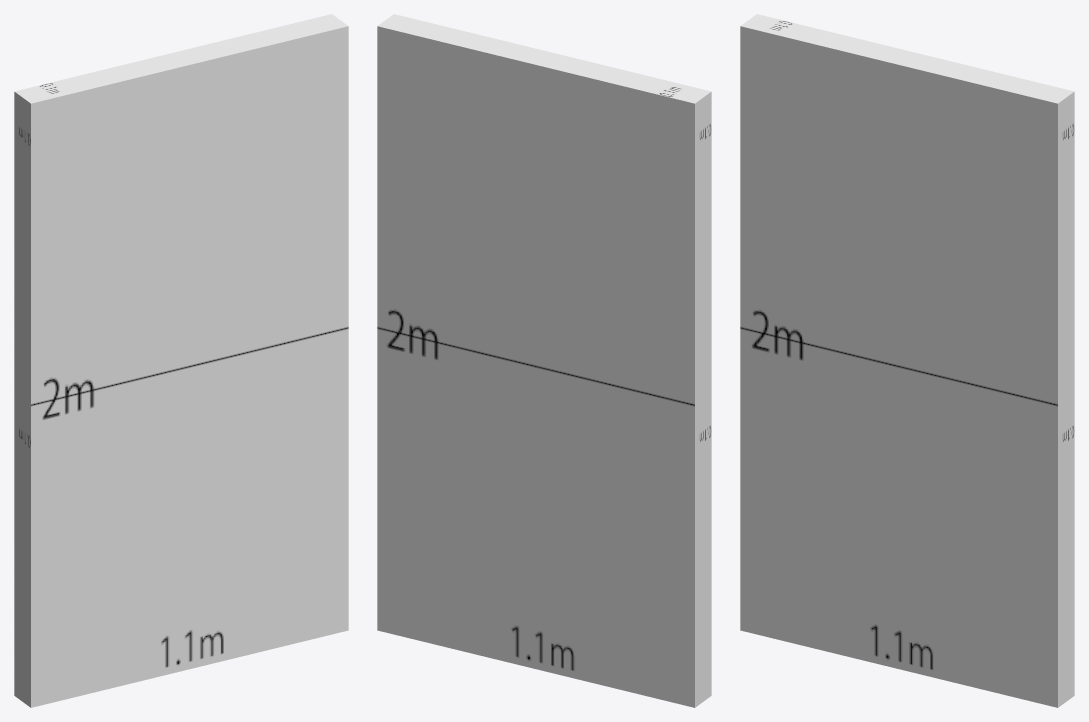
File: BgMD_WB_Door_1.1_2_0.1.fbx
The picture shows the model from 3 angles, left to right: view 1: azimuth 30°, elevation 25°; view 2: azimuth 150°, elevation 25°; view 3: azimuth 330°, elevation 25°; orthographic projection.
Parts seen in each view (by area): view 1: pCube1; view 2: pCube1; view 3: pCube1.
Boxes of the visible parts, x1=… form: pCube1: x1=14, y1=14, x2=348, y2=707; pCube1: x1=377, y1=14, x2=711, y2=707; pCube1: x1=740, y1=14, x2=1074, y2=707.
Size of the model in its own units: 110 by 200 by 10.
